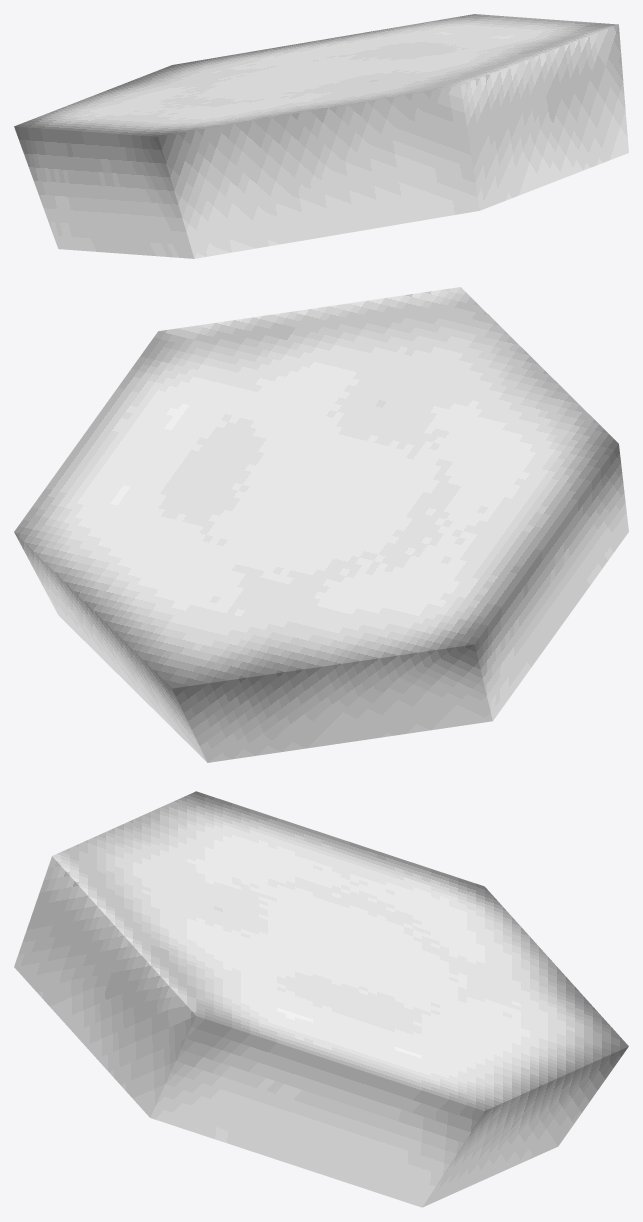
File: buttondown.glb
The picture shows the model from 3 angles, top to bottom: view 1: azimuth 30°, elevation 25°; view 2: azimuth 150°, elevation 25°; view 3: azimuth 270°, elevation 25°; orthographic projection.
Parts seen in each view (by area): view 1: buttondown; view 2: buttondown; view 3: buttondown.
Part boxes in pixels (x1=…): buttondown: x1=14, y1=14, x2=628, y2=258; buttondown: x1=14, y1=287, x2=628, y2=762; buttondown: x1=14, y1=791, x2=628, y2=1207.
Size of the model in its own units: 21.47 by 12.95 by 24.84.
1 material, 1 textured.
